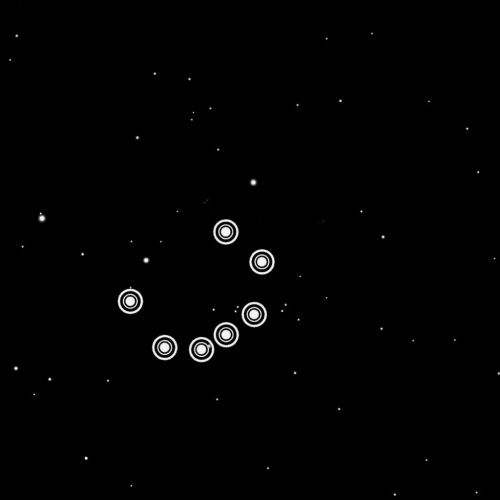corona_borealis: (115, 212, 280, 369)
